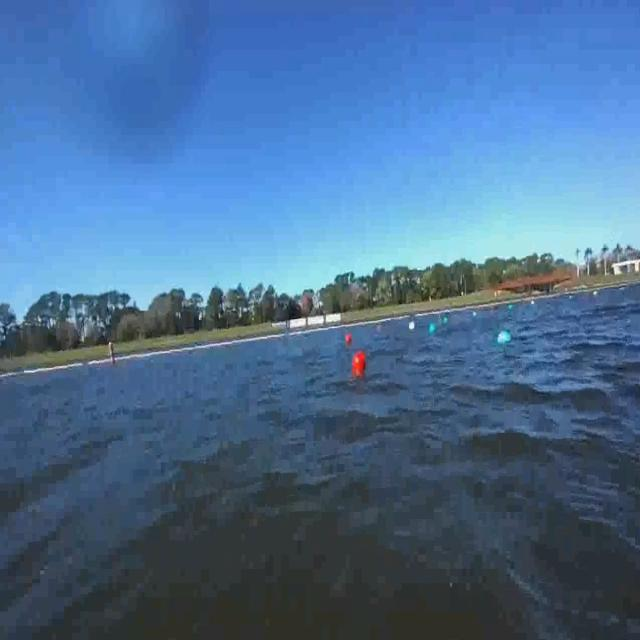green-buoy: (496, 327, 512, 351), (428, 322, 437, 334), (444, 316, 451, 325)
red-buoy: (352, 350, 367, 376), (346, 334, 353, 346)
yellow-buoy: (408, 317, 417, 334)
